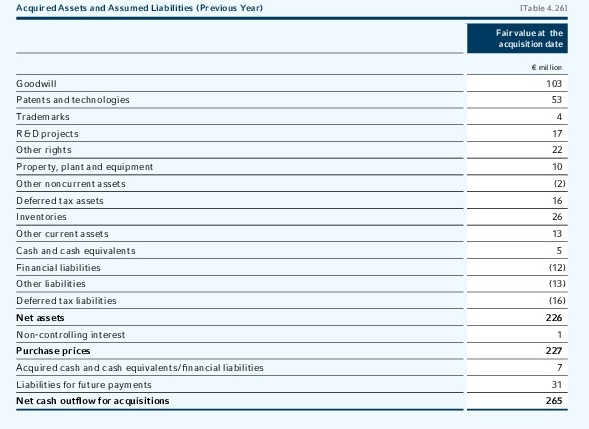table: (0, 0, 589, 429)
